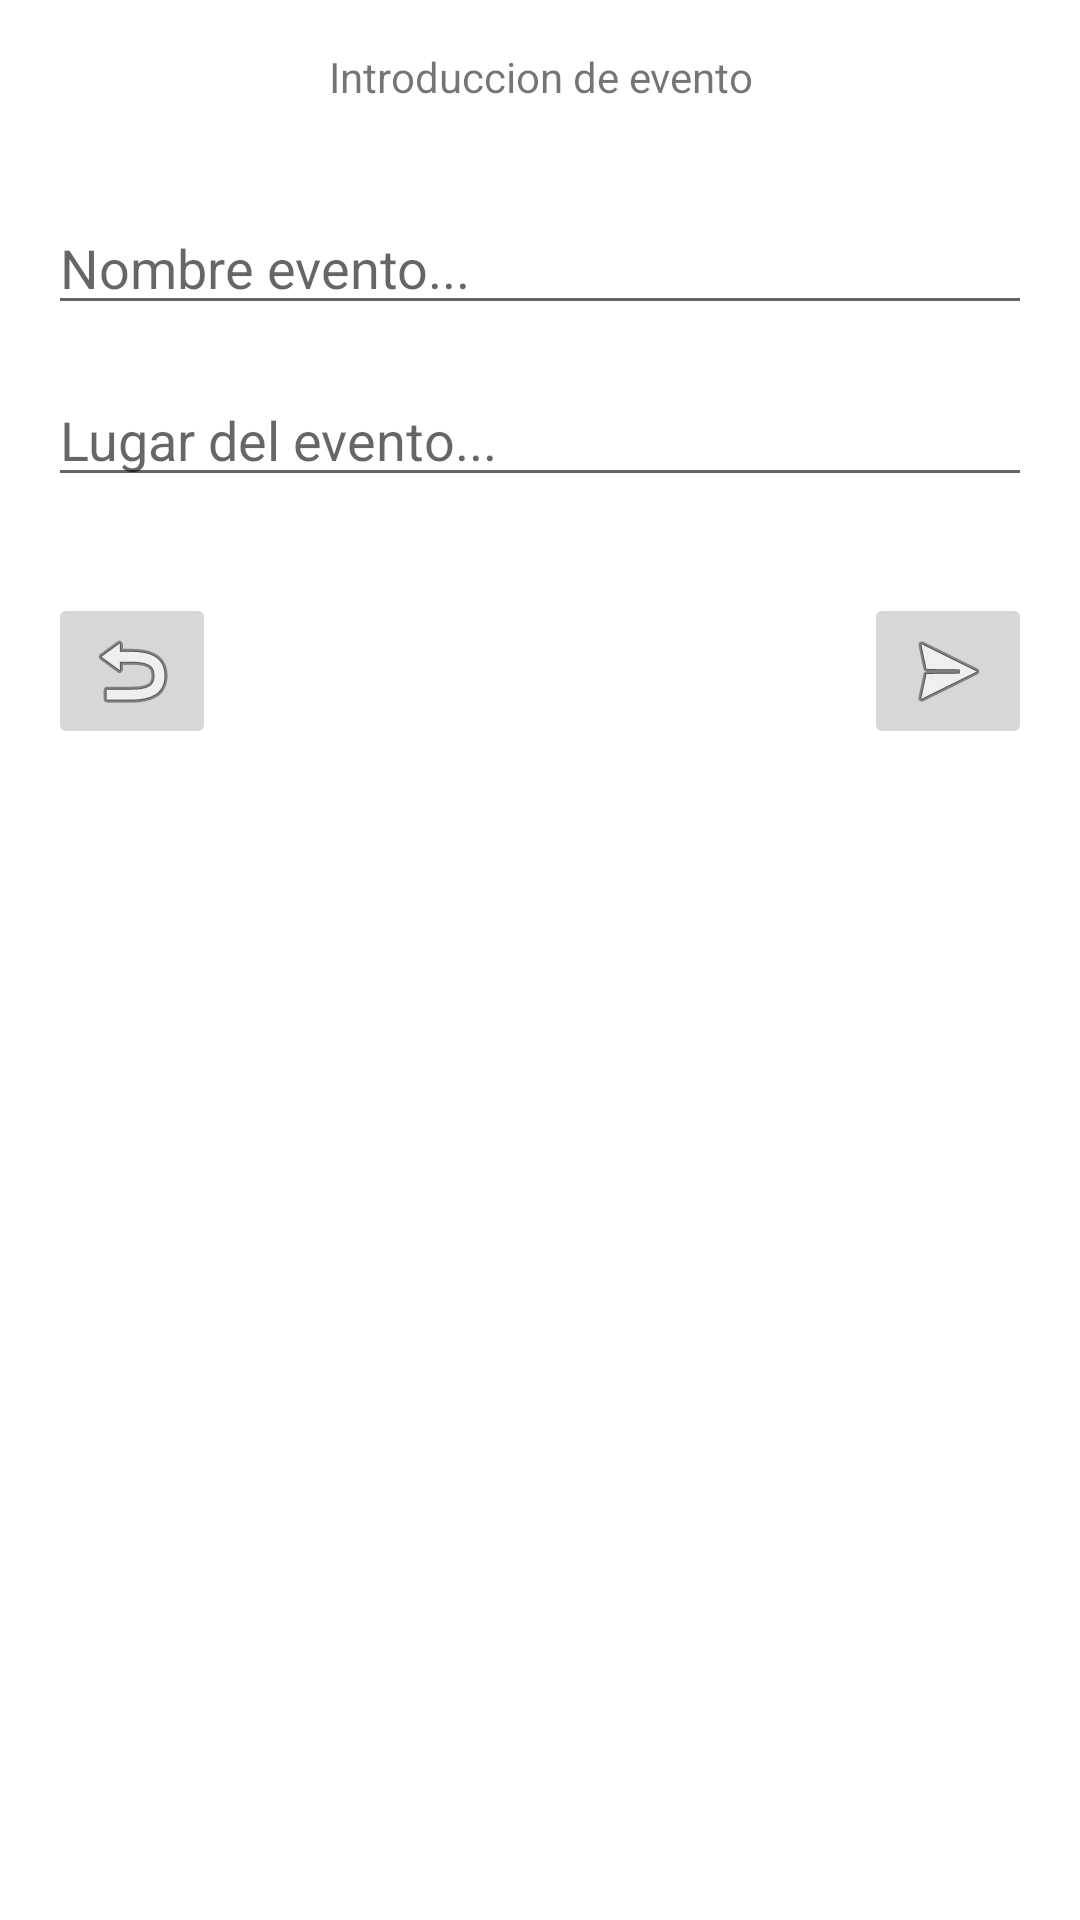

Named icons in this screenshot (1080 × 1920) and their centers, (x,y):
revert: (132,671)
send: (948,671)
